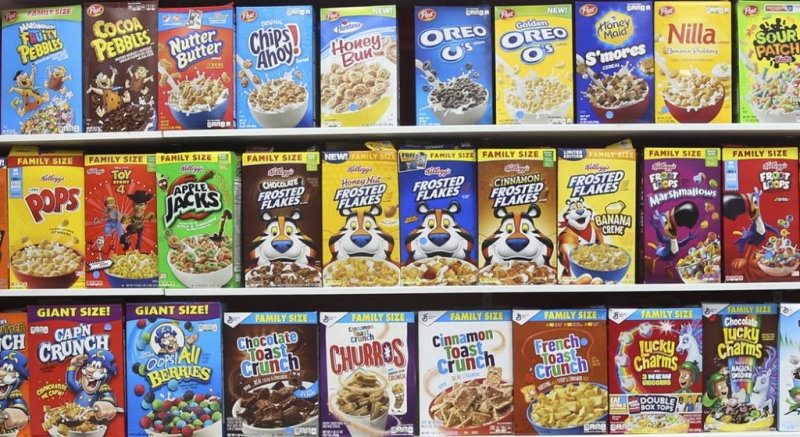cereal: (222, 312, 321, 436), (127, 304, 218, 437), (33, 307, 125, 437), (513, 312, 609, 436), (325, 312, 418, 435), (421, 312, 511, 435), (613, 311, 703, 434), (480, 153, 559, 289), (642, 150, 722, 282), (241, 156, 319, 291), (3, 7, 81, 138), (7, 155, 82, 291), (158, 153, 233, 288), (559, 152, 635, 283), (326, 152, 398, 289), (724, 152, 800, 280), (413, 7, 494, 126), (404, 149, 474, 285), (87, 155, 157, 289), (316, 9, 399, 121), (156, 5, 231, 128), (85, 6, 157, 133), (236, 6, 312, 126), (655, 4, 730, 124), (499, 5, 571, 127), (708, 306, 780, 427), (577, 2, 650, 120), (735, 2, 800, 120)
